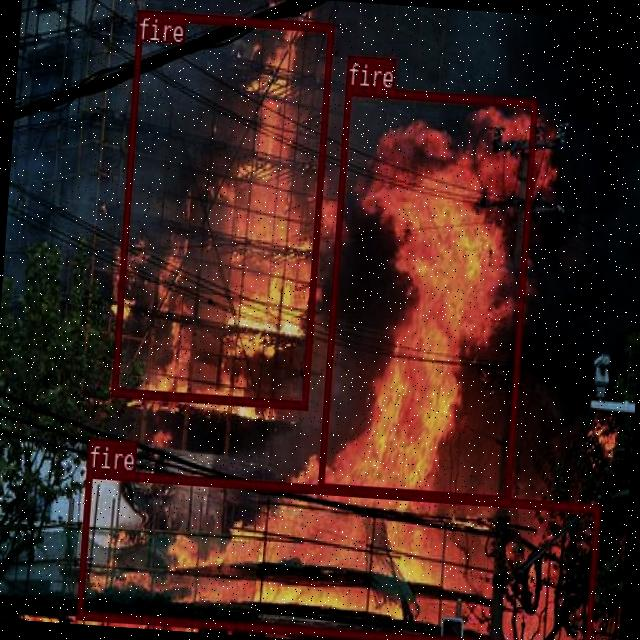fire: (316, 86, 536, 504), (75, 468, 599, 640), (111, 8, 332, 407)
